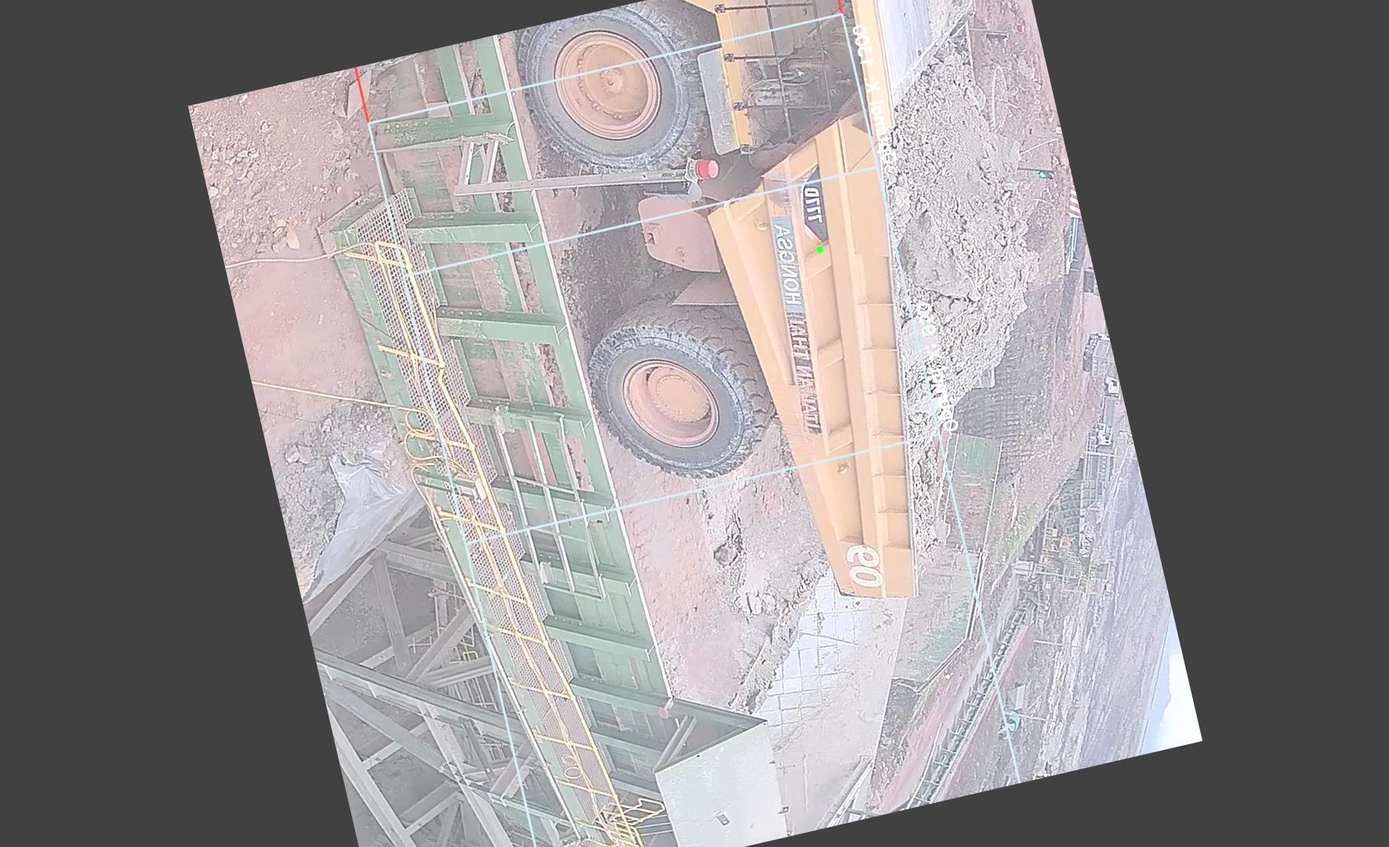company: (751, 200, 847, 451)
full_load: (837, 62, 1072, 398)
mining_truck: (510, 0, 1134, 663)
tail_number: (825, 517, 901, 607)
truck_size: (788, 164, 836, 253)
